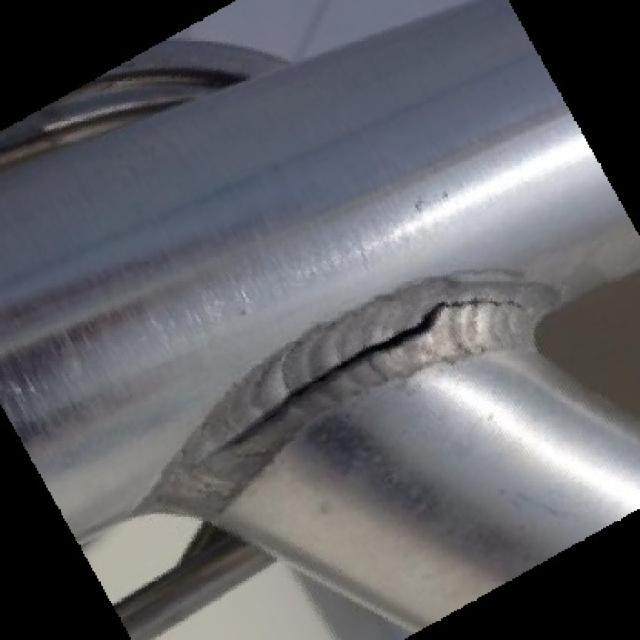crack: (307, 327, 421, 384), (232, 381, 305, 439), (452, 296, 518, 309), (424, 301, 447, 329)
